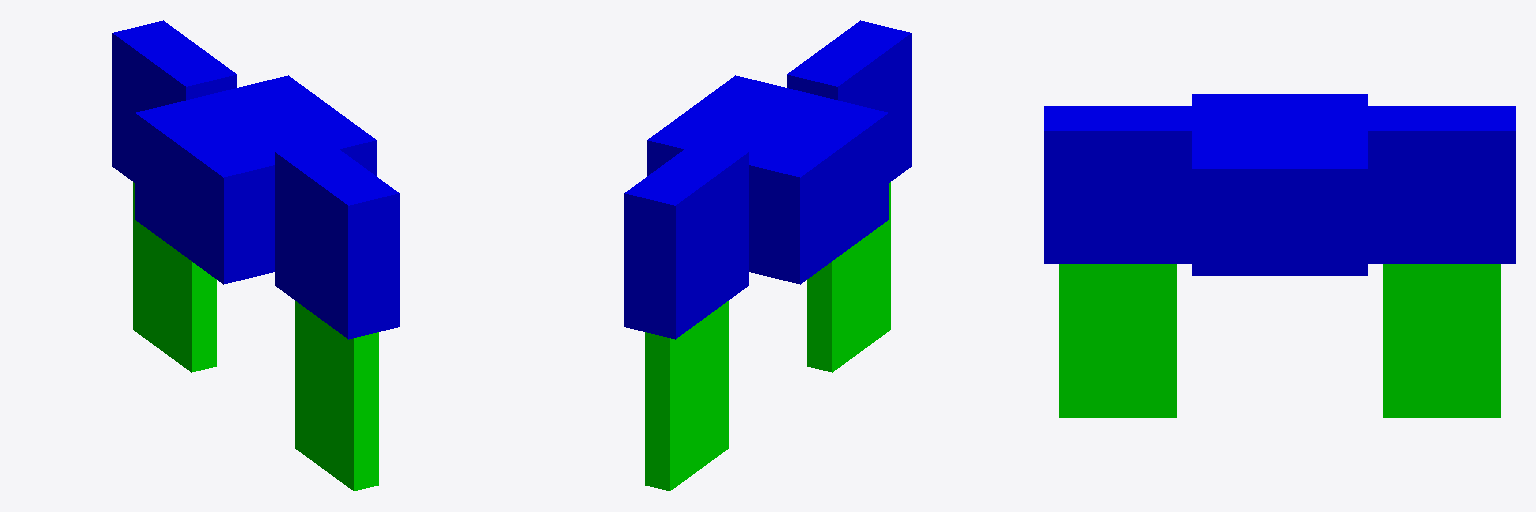
URDF robot description (robot):
<robot name = "robot">
    <link name="root">
        <inertial>
            <origin xyz="0.0 0.0 1.5" rpy="0 0 0"/>
            <mass value="1" />
            <inertia ixx="100" ixy="0" ixz="0" iyy="100" iyz="0" izz="100" />
        </inertial>
        <visual>
            <origin xyz="0.0 0.0 1.5" rpy="0 0 0"/>
            <geometry>
                <box size="0 0 0.0001" />
            </geometry>
            <material name="Green">
                <color rgba="0 1.0 0.0 1.0"/>
            </material>
        </visual>
        <collision>
            <origin xyz="0.0 0.0 1.5" rpy="0 0 0"/>
            <geometry>
                <box size="0 0 0.0001" />
            </geometry>
        </collision>
    </link>
    <joint name="root_000" type="revolute">
       <parent link="root"/>
       <child  link="000"/>
       <origin rpy="0 0 0" xyz="0.0 0.0 1.5" />
     <axis xyz="1 0 0"/>
       <limit effort="0.0" lower="-3.14159" upper="3.14159" velocity="0.0"/>
    </joint>
    <link name="000">
        <inertial>
            <origin xyz="0.3 0.0 0.0" rpy="0 0 0"/>
            <mass value="1" />
            <inertia ixx="100" ixy="0" ixz="0" iyy="100" iyz="0" izz="100" />
        </inertial>
        <visual>
            <origin xyz="0.3 0.0 0.0" rpy="0 0 0"/>
            <geometry>
                <box size="0.6 0.6 0.4" />
            </geometry>
            <material name="Blue">
                <color rgba="0 0.0 1.0 1.0"/>
            </material>
        </visual>
        <collision>
            <origin xyz="0.3 0.0 0.0" rpy="0 0 0"/>
            <geometry>
                <box size="0.6 0.6 0.4" />
            </geometry>
        </collision>
    </link>
    <joint name="000_000-100" type="revolute">
       <parent link="000"/>
       <child  link="000-100"/>
       <origin rpy="0 0 0" xyz="0.3 0.3 -0.0" />
     <axis xyz="0 1 0"/>
       <limit effort="0.0" lower="-3.14159" upper="3.14159" velocity="0.0"/>
    </joint>
    <link name="000-100">
        <inertial>
            <origin xyz="0.0 0.25 -0.0" rpy="0 0 0"/>
            <mass value="1" />
            <inertia ixx="100" ixy="0" ixz="0" iyy="100" iyz="0" izz="100" />
        </inertial>
        <visual>
            <origin xyz="0.0 0.25 -0.0" rpy="0 0 0"/>
            <geometry>
                <box size="0.2 0.5 0.5" />
            </geometry>
            <material name="Blue">
                <color rgba="0 0.0 1.0 1.0"/>
            </material>
        </visual>
        <collision>
            <origin xyz="0.0 0.25 -0.0" rpy="0 0 0"/>
            <geometry>
                <box size="0.2 0.5 0.5" />
            </geometry>
        </collision>
    </link>
    <joint name="000-100_000-100-200" type="revolute">
       <parent link="000-100"/>
       <child  link="000-100-200"/>
       <origin rpy="0 0 0" xyz="0.0 0.25 -0.25" />
     <axis xyz="0 0 1"/>
       <limit effort="0.0" lower="-3.14159" upper="3.14159" velocity="0.0"/>
    </joint>
    <link name="000-100-200">
        <inertial>
            <origin xyz="0.0 0.0 -0.3" rpy="0 0 0"/>
            <mass value="1" />
            <inertia ixx="100" ixy="0" ixz="0" iyy="100" iyz="0" izz="100" />
        </inertial>
        <visual>
            <origin xyz="0.0 0.0 -0.3" rpy="0 0 0"/>
            <geometry>
                <box size="0.1 0.4 0.6" />
            </geometry>
            <material name="Green">
                <color rgba="0 1.0 0.0 1.0"/>
            </material>
        </visual>
        <collision>
            <origin xyz="0.0 0.0 -0.3" rpy="0 0 0"/>
            <geometry>
                <box size="0.1 0.4 0.6" />
            </geometry>
        </collision>
    </link>
    <joint name="000_000-101" type="revolute">
       <parent link="000"/>
       <child  link="000-101"/>
       <origin rpy="0 0 0" xyz="0.3 -0.3 -0.0" />
     <axis xyz="0 1 0"/>
       <limit effort="0.0" lower="-3.14159" upper="3.14159" velocity="0.0"/>
    </joint>
    <link name="000-101">
        <inertial>
            <origin xyz="0.0 -0.25 -0.0" rpy="0 0 0"/>
            <mass value="1" />
            <inertia ixx="100" ixy="0" ixz="0" iyy="100" iyz="0" izz="100" />
        </inertial>
        <visual>
            <origin xyz="0.0 -0.25 -0.0" rpy="0 0 0"/>
            <geometry>
                <box size="0.2 0.5 0.5" />
            </geometry>
            <material name="Blue">
                <color rgba="0 0.0 1.0 1.0"/>
            </material>
        </visual>
        <collision>
            <origin xyz="0.0 -0.25 -0.0" rpy="0 0 0"/>
            <geometry>
                <box size="0.2 0.5 0.5" />
            </geometry>
        </collision>
    </link>
    <joint name="000-101_000-101-200" type="revolute">
       <parent link="000-101"/>
       <child  link="000-101-200"/>
       <origin rpy="0 0 0" xyz="0.0 -0.25 -0.25" />
     <axis xyz="0 0 1"/>
       <limit effort="0.0" lower="-3.14159" upper="3.14159" velocity="0.0"/>
    </joint>
    <link name="000-101-200">
        <inertial>
            <origin xyz="0.0 -0.0 -0.3" rpy="0 0 0"/>
            <mass value="1" />
            <inertia ixx="100" ixy="0" ixz="0" iyy="100" iyz="0" izz="100" />
        </inertial>
        <visual>
            <origin xyz="0.0 -0.0 -0.3" rpy="0 0 0"/>
            <geometry>
                <box size="0.1 0.4 0.6" />
            </geometry>
            <material name="Green">
                <color rgba="0 1.0 0.0 1.0"/>
            </material>
        </visual>
        <collision>
            <origin xyz="0.0 -0.0 -0.3" rpy="0 0 0"/>
            <geometry>
                <box size="0.1 0.4 0.6" />
            </geometry>
        </collision>
    </link>
</robot>

--- What the picture shows (computed from the rendered views, not written in the file) ---
3 views of the same robot in one strip: view 1: azimuth 30°, elevation 25°; view 2: azimuth 150°, elevation 25°; view 3: azimuth 270°, elevation 25° (orthographic).
Robot: robot — 6 links, 5 joints (5 revolute); root link root; default pose: every joint at zero.
Visible links, largest first — view 1: 000, [phone redacted] (×2), 000-101, 000-100; view 2: 000, [phone redacted] (×2), 000-100, 000-101; view 3: [phone redacted] (×2), 000, 000-100, 000-101.
Boxes of the visible links, <box> form: 000: <box>135,75,376,284</box>; [phone redacted] (×2): <box>133,182,378,490</box>; 000-101: <box>275,139,399,339</box>; 000-100: <box>112,20,236,182</box>; 000: <box>647,75,888,284</box>; [phone redacted] (×2): <box>645,182,890,490</box>; 000-100: <box>624,139,748,339</box>; 000-101: <box>787,20,911,182</box>; [phone redacted] (×2): <box>1059,264,1500,417</box>; 000: <box>1192,94,1367,275</box>; 000-100: <box>1368,106,1515,263</box>; 000-101: <box>1044,106,1191,263</box>.
Size in the robot's own frame: 0.6 by 1.6 by 1.1 metres.
Geometry: primitives only (box / cylinder / sphere), no mesh files.
